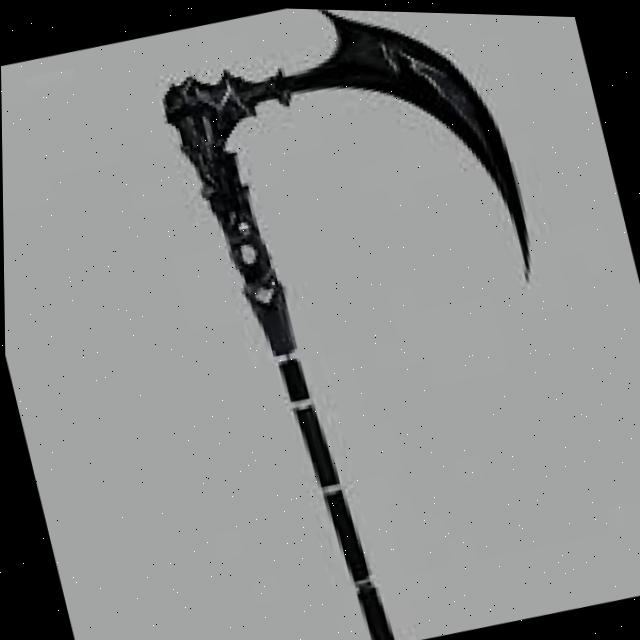sickle: (98, 2, 615, 640)
